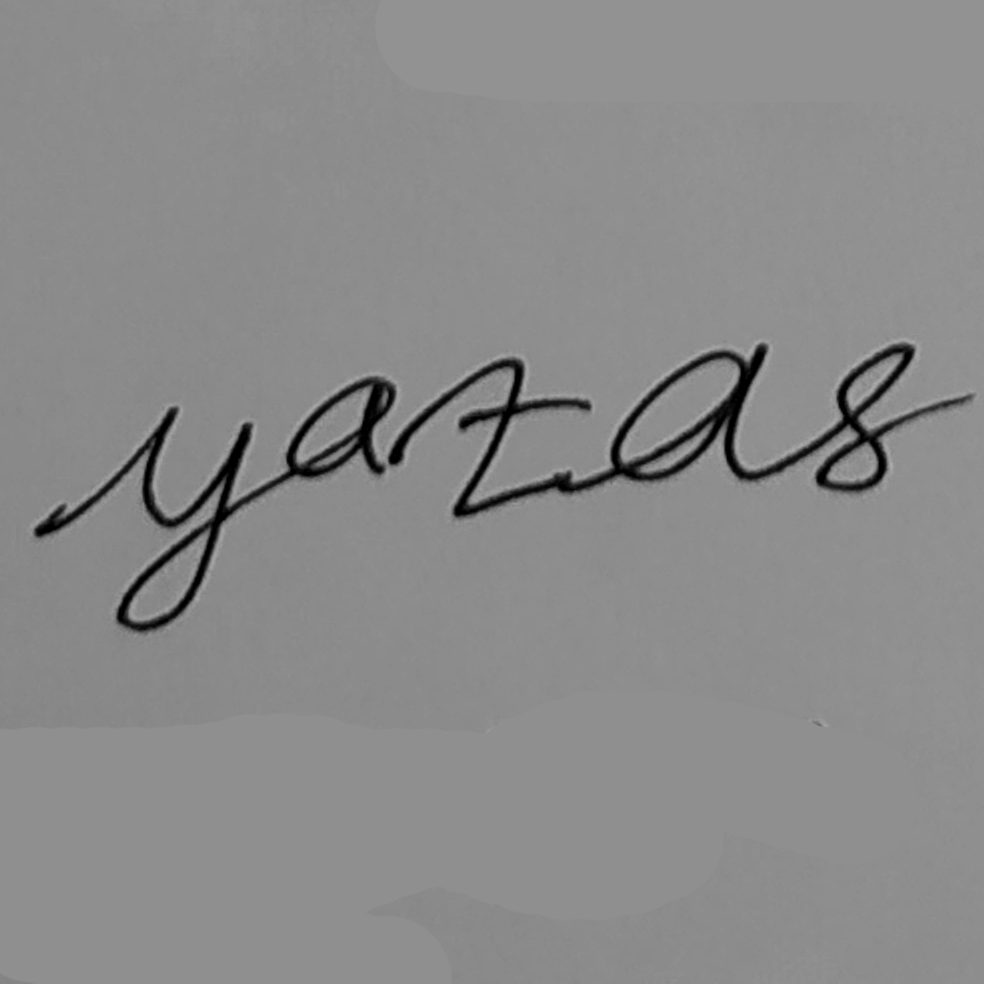a: (605, 340, 773, 487), (282, 369, 401, 482)
s: (810, 337, 920, 494)
y: (111, 403, 256, 635)
z: (438, 352, 594, 521)
